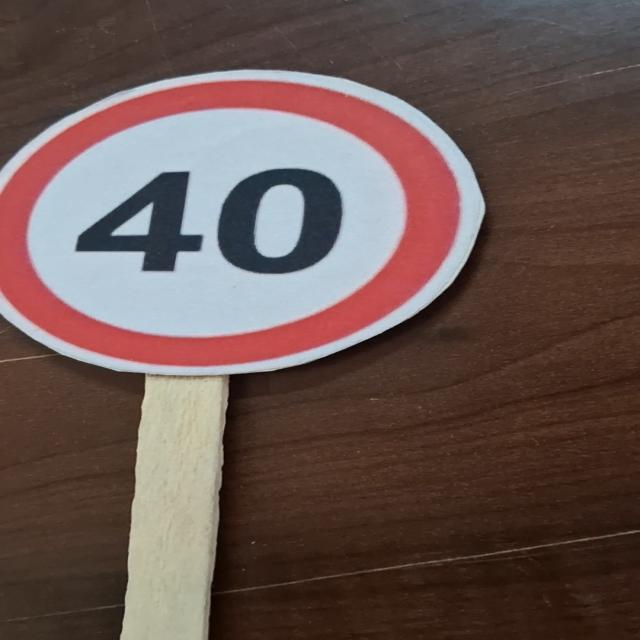Speed40: (0, 63, 504, 381)
